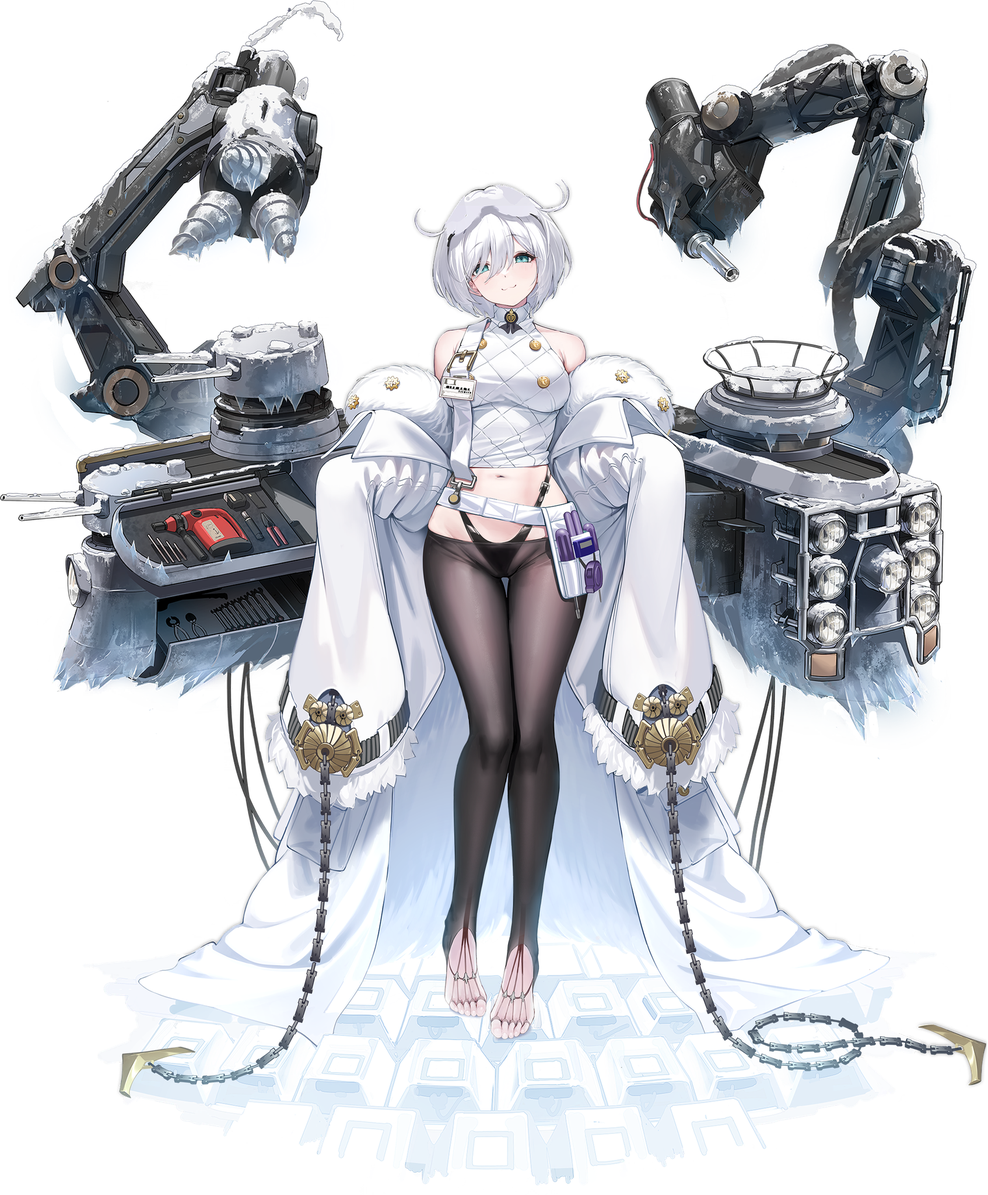person: (332, 143, 659, 1081)
